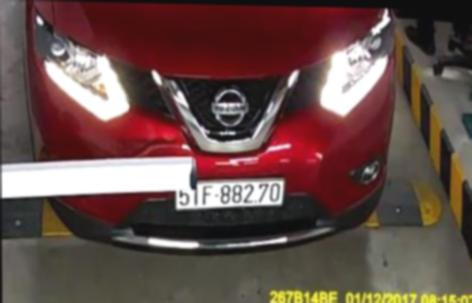License_Plate: (176, 177, 283, 210)
